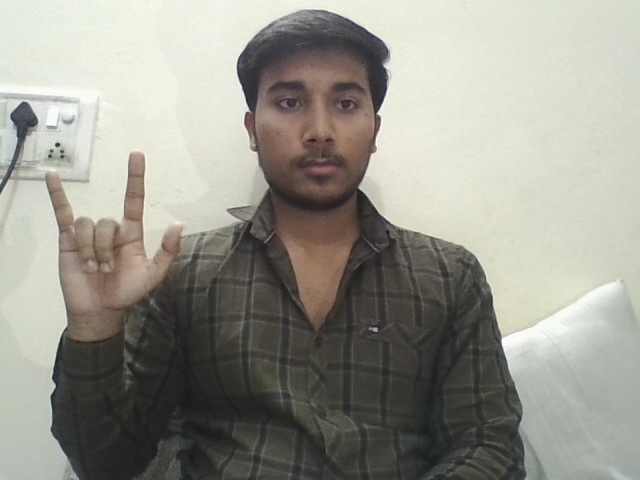iloveyou: (13, 134, 197, 341)
